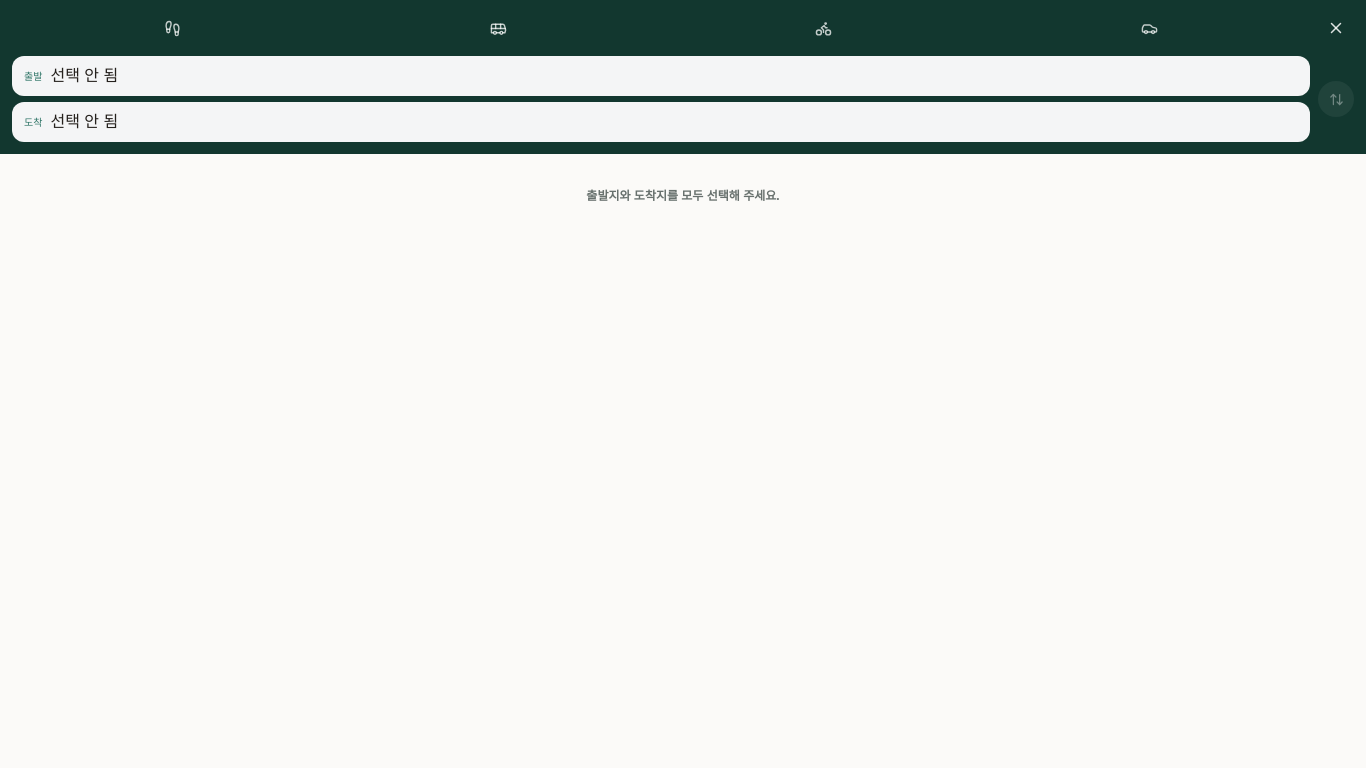
Test: KakaoMapExplorer route state › ignores a late browser permission result after the user begins a manual selection
What coordinates should you click on to do the following:
click the button with aria-label "출발지 선택"
I would click on:
 (84, 76)
Its box is [12, 56, 1310, 96].
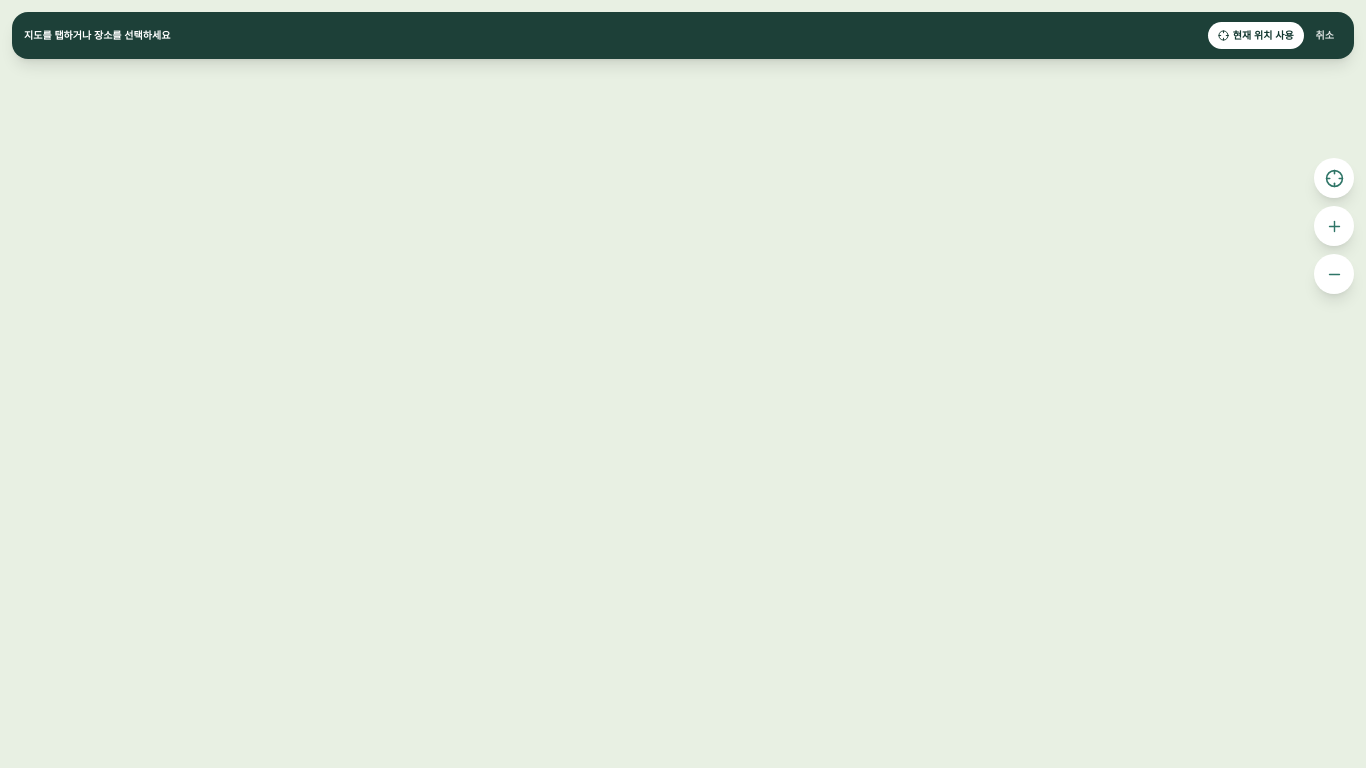
Result: the button "취소" is shown at [1308, 22, 1342, 49]
